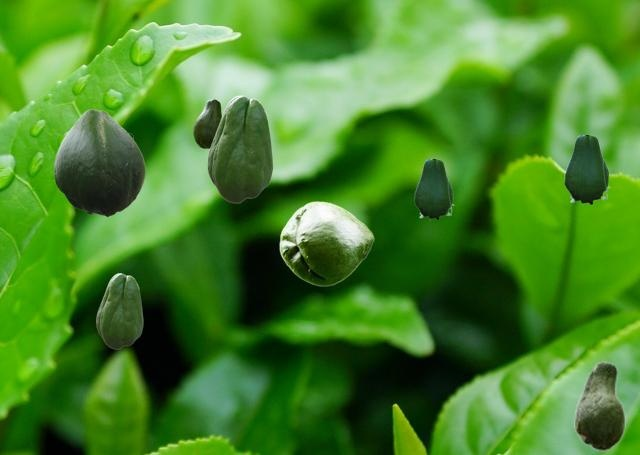sayote: (54, 109, 144, 216), (279, 201, 373, 285), (207, 95, 272, 202), (574, 361, 624, 450), (96, 273, 142, 348), (564, 135, 609, 205), (414, 159, 453, 220), (193, 99, 221, 147)
